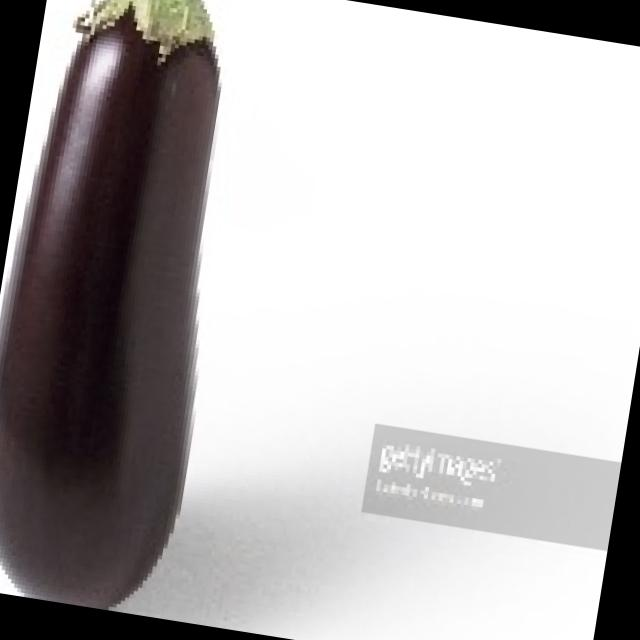eggplant: (0, 0, 260, 619)
